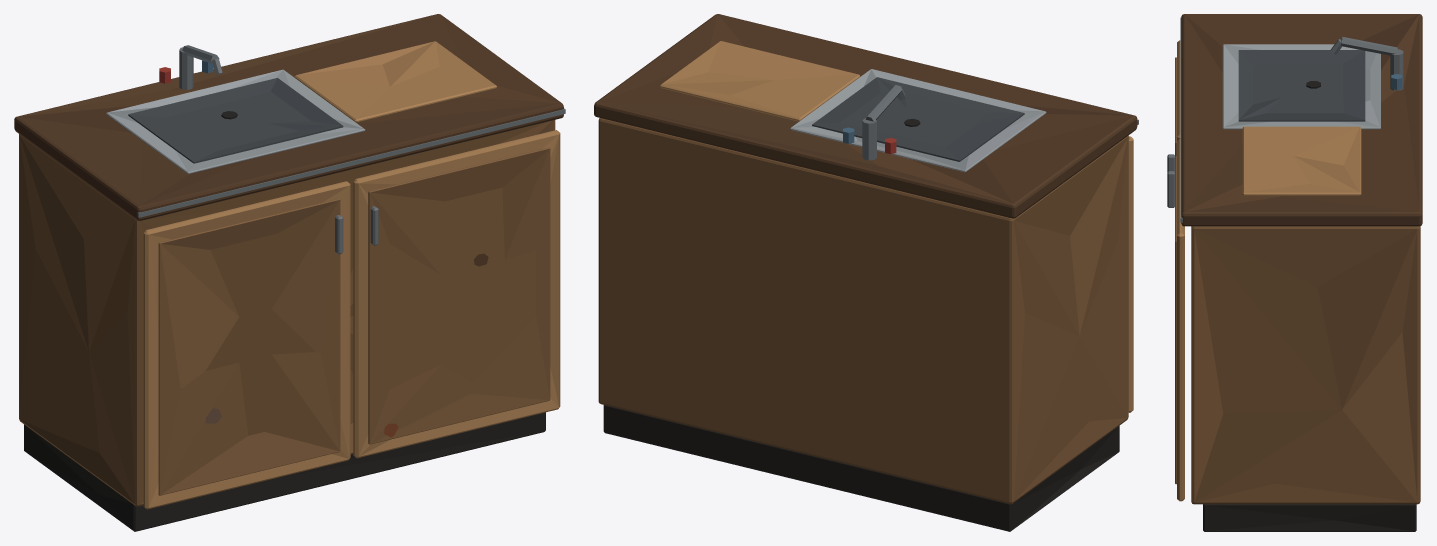
Rendered from kitchen_counter_s_rakovinoy_idle.glb.
The picture shows the model from 3 angles, left to right: view 1: azimuth 30°, elevation 25°; view 2: azimuth 150°, elevation 25°; view 3: azimuth 270°, elevation 25°; orthographic projection. The views are drawn at different scales.
Visible parts, largest first — view 1: kitchen_counter_s_rakovinoy_idle; view 2: kitchen_counter_s_rakovinoy_idle; view 3: kitchen_counter_s_rakovinoy_idle.
Boxes of the visible parts, bbox=[...] form: kitchen_counter_s_rakovinoy_idle: bbox=[14, 14, 565, 531]; kitchen_counter_s_rakovinoy_idle: bbox=[594, 14, 1138, 531]; kitchen_counter_s_rakovinoy_idle: bbox=[1167, 14, 1422, 531].
Size of the model in its own units: 1.2 by 1.04 by 0.645.
Materials: 1 (1 with a texture image).
